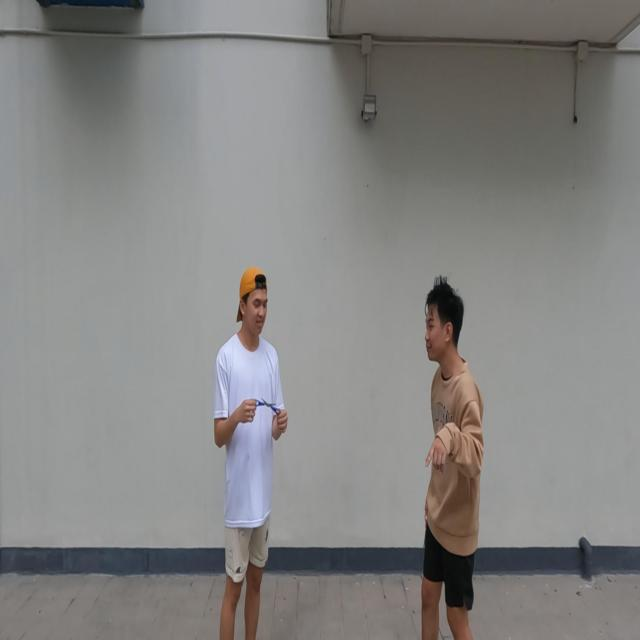scissor: (253, 397, 280, 416)
